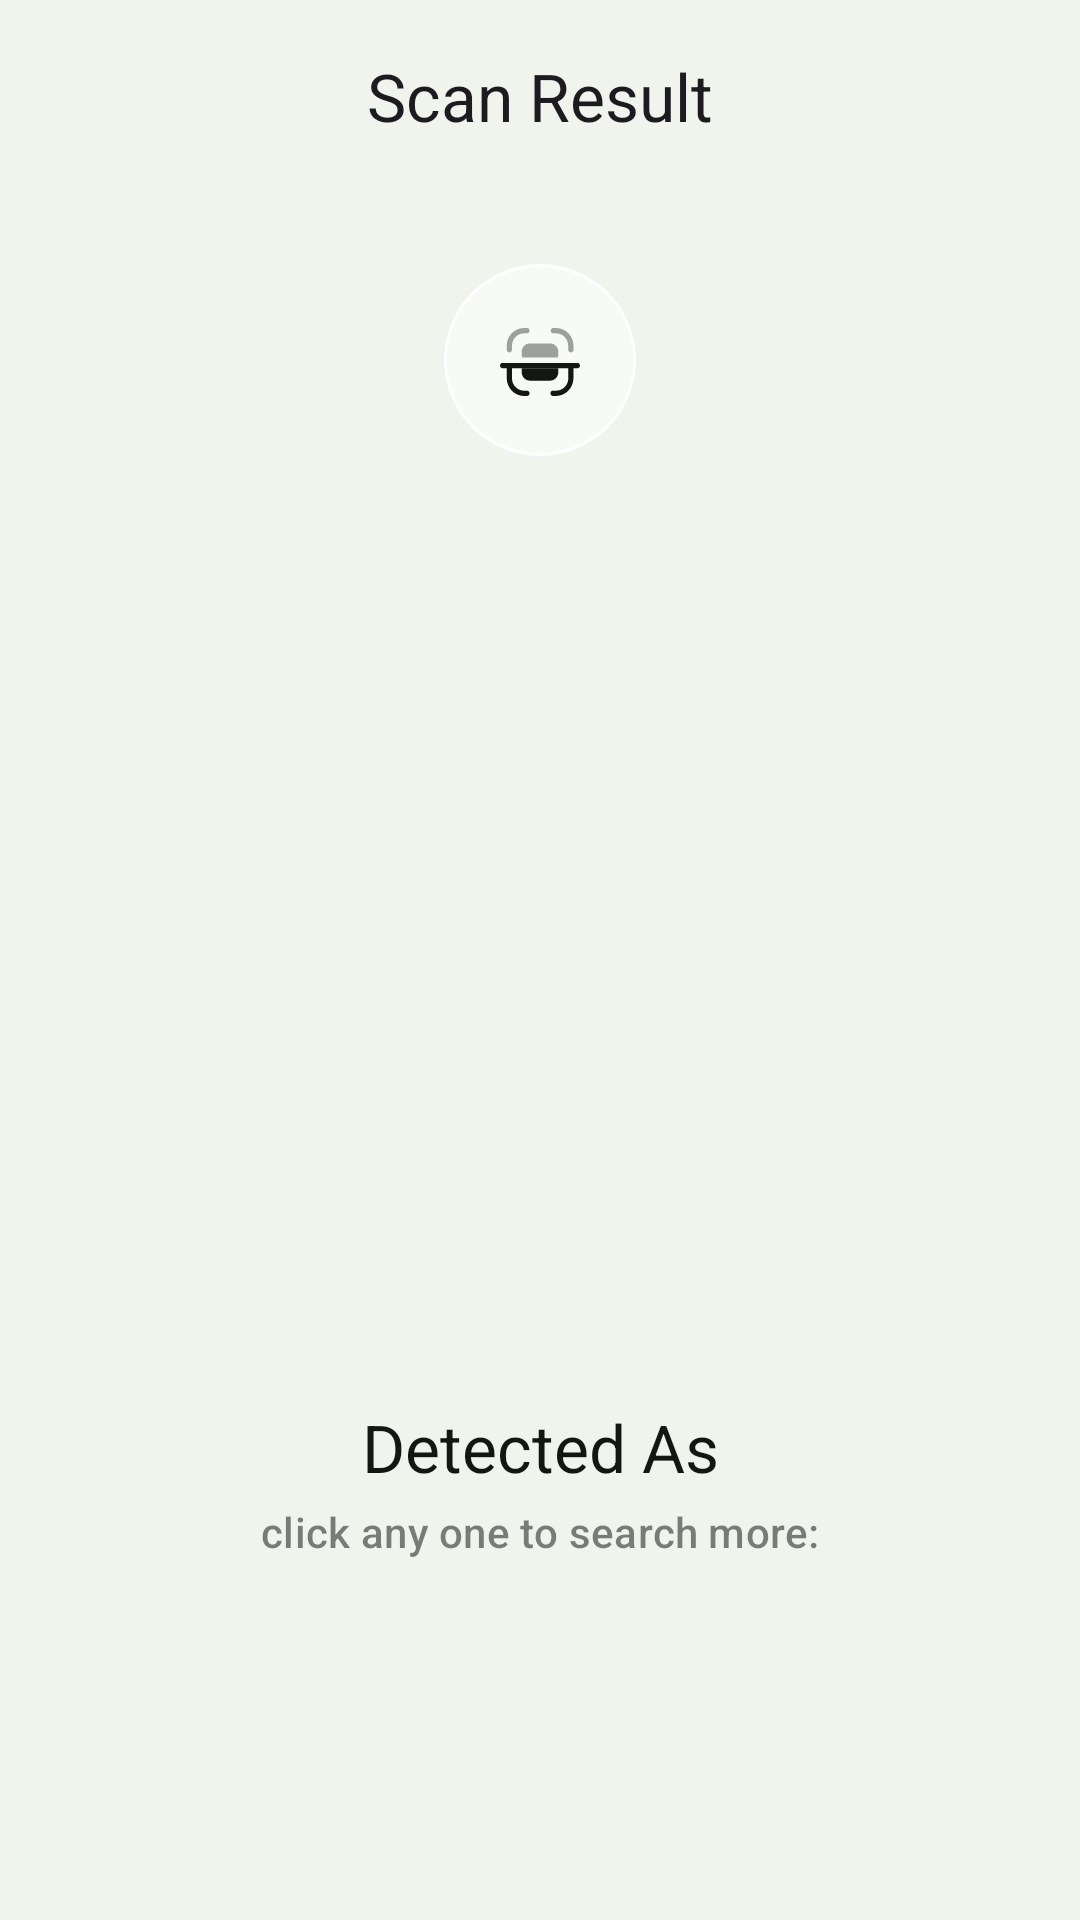

Locate icon controls on the screen. Image size 1080w x 1920h, boxes as [x1,y1,x2,y2].
Scan Result: [500,328,580,396]
